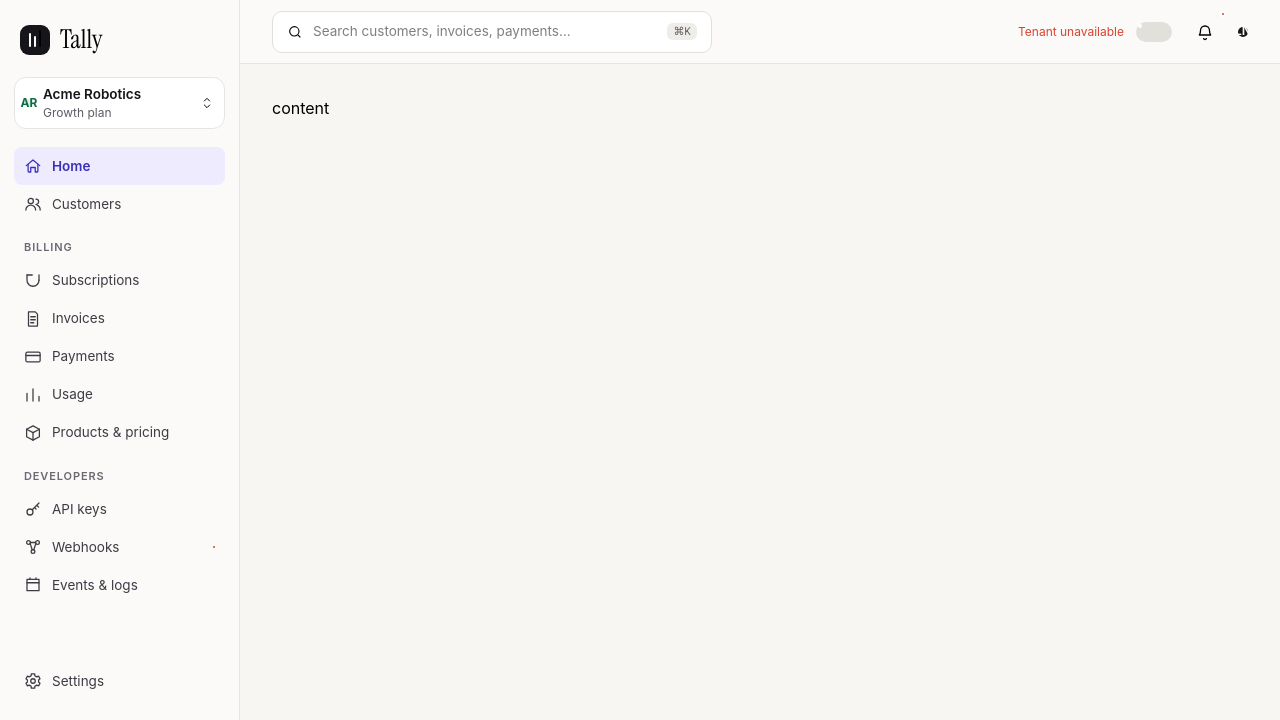
Test: AppShell › toggles test mode and shows the non-dismissible banner — TLY-006-AC1
The width and height of the screenshot is (1280, 720).
What coordinates should you click on to do the following:
click the switch named "test mode"
I would click on:
 (1154, 32)
Its box is [1136,22,1172,42].
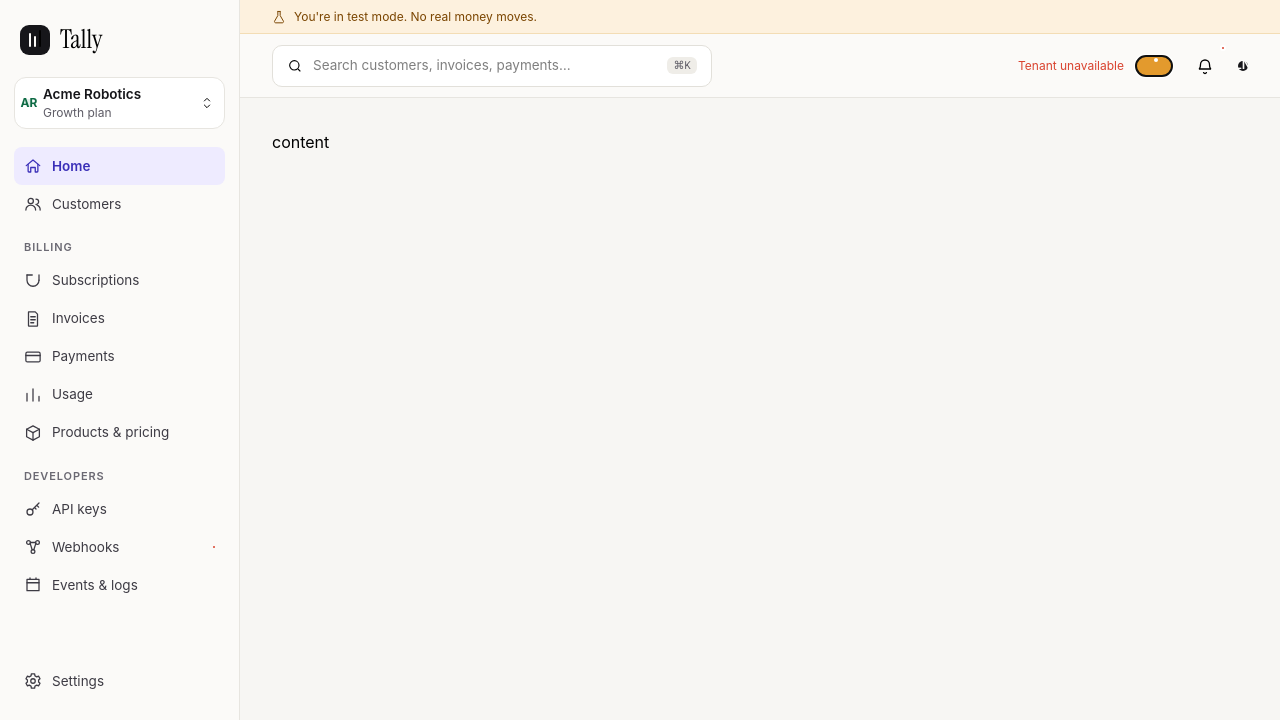
Expected: the text "You're in test mode. No real money moves." is shown, [294,8,537,26]
